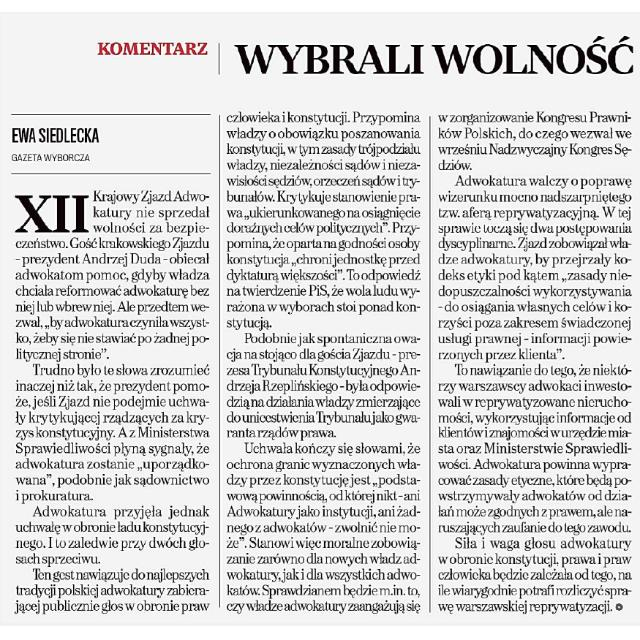author: (8, 120, 104, 148)
body: (435, 104, 637, 622), (223, 106, 425, 620), (8, 182, 216, 620)
title: (89, 32, 637, 82)
